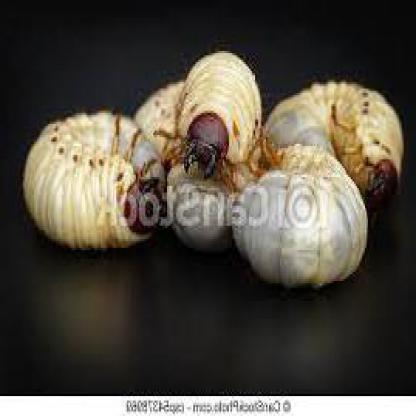root grubs: (23, 111, 170, 250), (230, 144, 369, 290)
